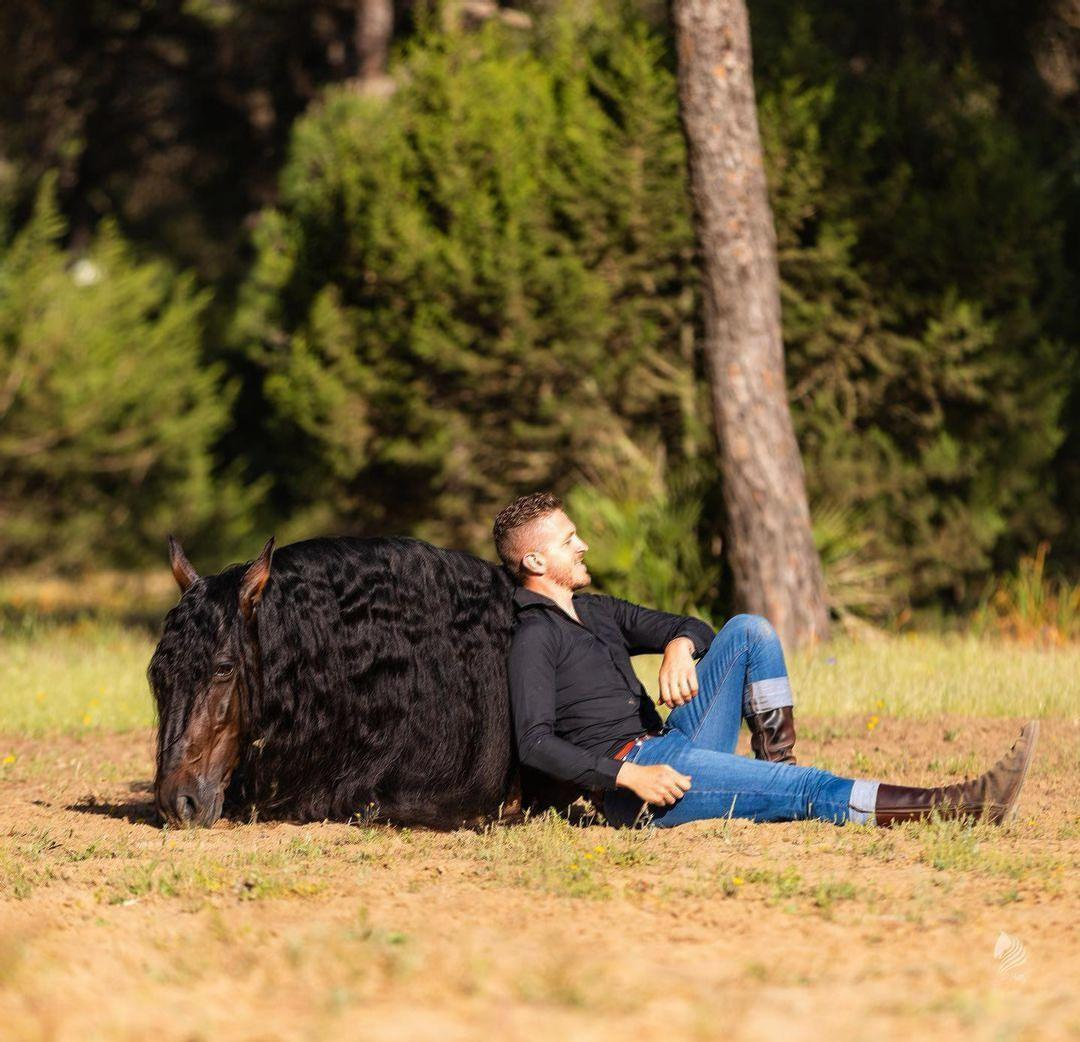horse: (147, 536, 521, 831)
